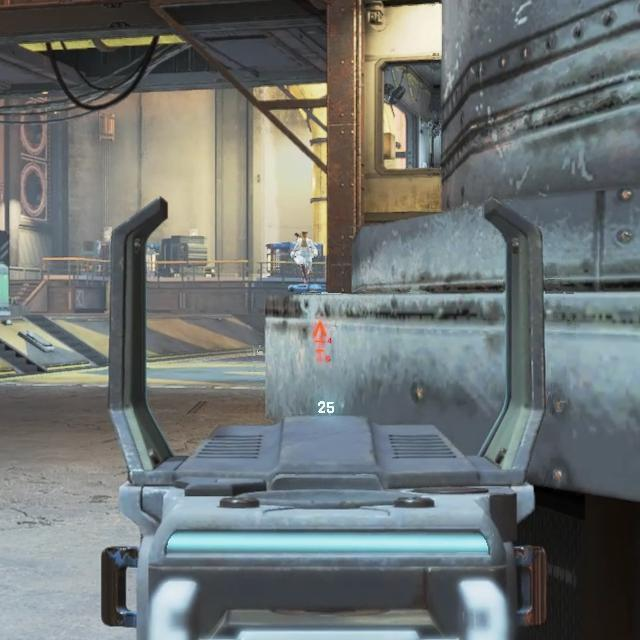avatar: (289, 228, 319, 288)
